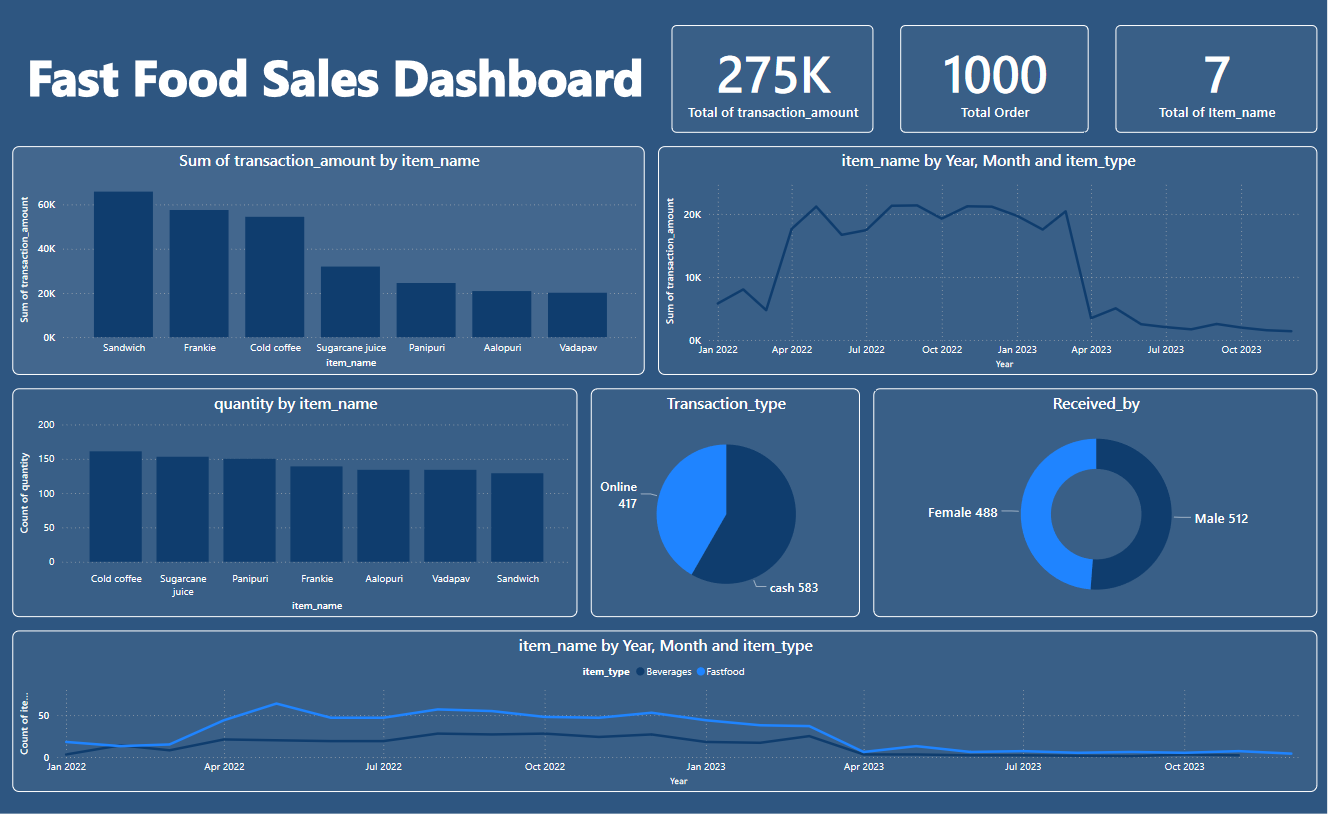

Layout of this report page (visuals, bound fields, positions):
{"tool":"powerbi","page":{"name":"Page 1","canvas":[1580,970],"ordinal":0},"visuals":[{"type":"card","fields":{"Values":["Sum(Balaji Fast Food Sales.Total_amount)"]},"box":[800,32,240,128],"z":0},{"type":"card","fields":{"Values":["CountNonNull(Balaji Fast Food Sales.order_id)"]},"box":[1072,32,224,128],"z":1000},{"type":"card","fields":{"Values":["Count(Balaji Fast Food Sales.item_name)"]},"box":[1328,32,240,128],"z":2000},{"type":"clusteredColumnChart","fields":{"Category":["Balaji Fast Food Sales.item_name"],"Y":["Sum(Balaji Fast Food Sales.Total_amount)"]},"box":[16,176,752,272],"z":3000},{"type":"clusteredColumnChart","title":" quantity by item_name","fields":{"Category":["Balaji Fast Food Sales.item_name"],"Y":["CountNonNull(Balaji Fast Food Sales.quantity)"]},"box":[16,464,672,272],"z":4000},{"type":"pieChart","title":" Transaction_type","fields":{"Y":["CountNonNull(Balaji Fast Food Sales.transaction_type)"],"Category":["Balaji Fast Food Sales.transaction_type"]},"box":[704,464,320,272],"z":5000},{"type":"lineChart","title":" item_name by Year, Month and item_type","fields":{"Category":["Balaji Fast Food Sales.date.Variation.Date Hierarchy.Year","Balaji Fast Food Sales.date.Variation.Date Hierarchy.Month"],"Y":["Sum(Balaji Fast Food Sales.transaction_amount)"]},"box":[784,176,784,272],"z":6000},{"type":"donutChart","title":" Received_by","fields":{"Category":["Balaji Fast Food Sales.received_by"],"Y":["CountNonNull(Balaji Fast Food Sales.received_by)"]},"box":[1040,464,528,272],"z":7000},{"type":"lineChart","title":" item_name by Year, Month and item_type","fields":{"Category":["Balaji Fast Food Sales.date.Variation.Date Hierarchy.Year","Balaji Fast Food Sales.date.Variation.Date Hierarchy.Month"],"Series":["Balaji Fast Food Sales.item_type"],"Y":["CountNonNull(Balaji Fast Food Sales.item_name)"]},"box":[16,752,1552,192],"z":8000},{"type":"textbox","box":[16,48,768,96],"z":9000}]}

Visuals, with their boxes in screenshot pixels (x1, y1, x2, y2), scaled from the page's 1580x970 canvas onto the 1328x815 screenshot:
card - Sum(Balaji Fast Food Sales.Total_amount): x1=672, y1=27, x2=874, y2=134
card - CountNonNull(Balaji Fast Food Sales.order_id): x1=901, y1=27, x2=1089, y2=134
card - Count(Balaji Fast Food Sales.item_name): x1=1116, y1=27, x2=1318, y2=134
clusteredColumnChart - Balaji Fast Food Sales.item_name x Sum(Balaji Fast Food Sales.Total_amount): x1=13, y1=148, x2=646, y2=376
" quantity by item_name" clusteredColumnChart: x1=13, y1=390, x2=578, y2=618
" Transaction_type" pieChart: x1=592, y1=390, x2=861, y2=618
" item_name by Year, Month and item_type" lineChart: x1=659, y1=148, x2=1318, y2=376
" Received_by" donutChart: x1=874, y1=390, x2=1318, y2=618
" item_name by Year, Month and item_type" lineChart: x1=13, y1=632, x2=1318, y2=793
textbox: x1=13, y1=40, x2=659, y2=121
